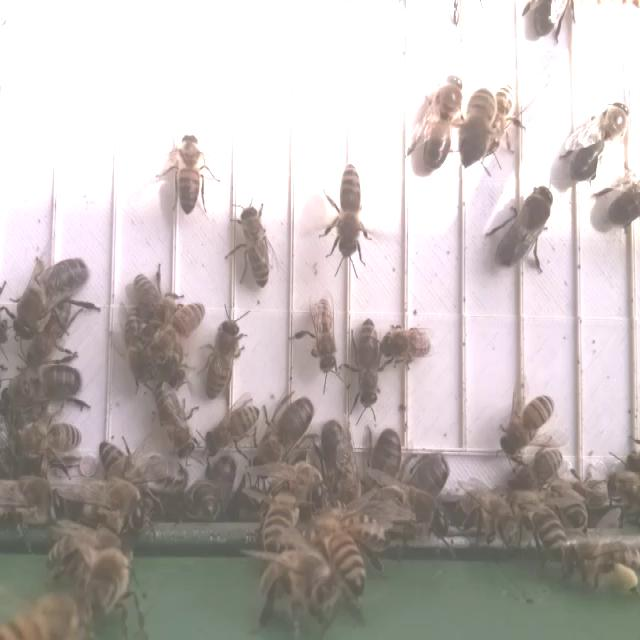Drone: (11, 254, 90, 344), (249, 395, 314, 483), (492, 180, 555, 270), (567, 98, 630, 184), (0, 358, 85, 420), (419, 68, 466, 174), (318, 415, 362, 510)
Worker: (498, 388, 558, 457), (151, 374, 197, 463), (203, 314, 242, 401), (202, 400, 260, 458), (154, 297, 209, 358), (334, 158, 365, 262), (240, 205, 272, 294), (351, 318, 381, 412), (174, 128, 205, 218), (310, 298, 338, 375), (381, 323, 433, 364)
